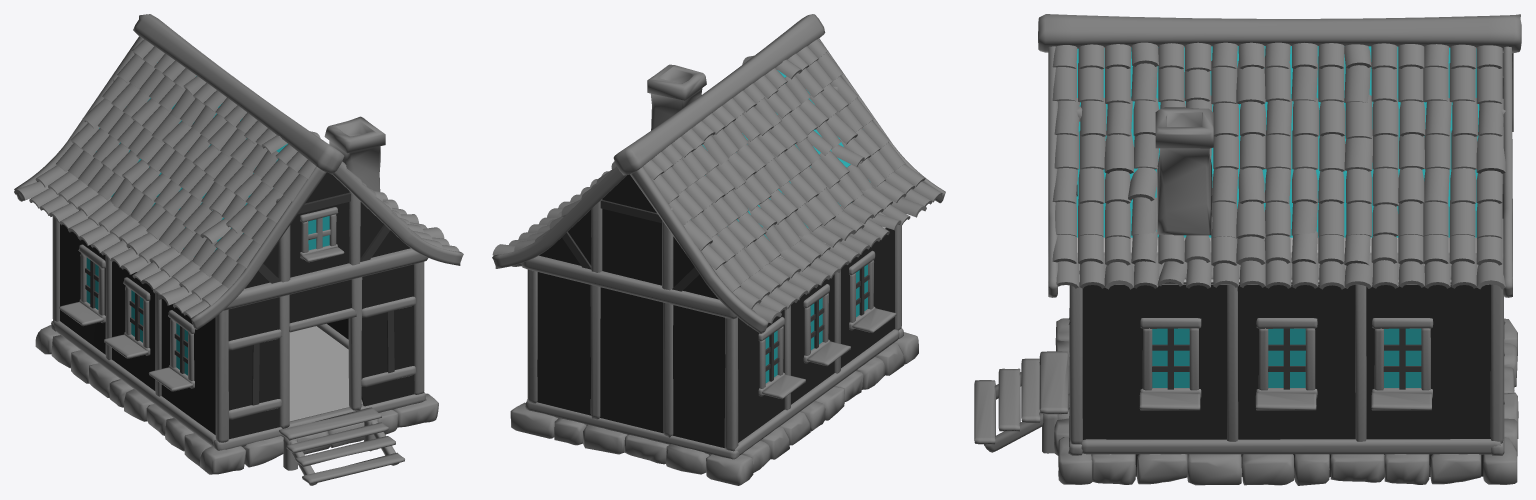
Rendered from SM_house_05.fbx.
The picture shows the model from 3 angles, left to right: view 1: azimuth 30°, elevation 25°; view 2: azimuth 150°, elevation 25°; view 3: azimuth 270°, elevation 25°; orthographic projection. The views are drawn at different scales.
Visible parts, largest first — view 1: Object342623; view 2: Object342623; view 3: Object342623.
Boxes of the visible parts, bbox=[...] form: Object342623: bbox=[14, 14, 463, 485]; Object342623: bbox=[492, 14, 945, 485]; Object342623: bbox=[974, 14, 1521, 485].
Bounding box in the file's own units: 211 × 231 × 280.
